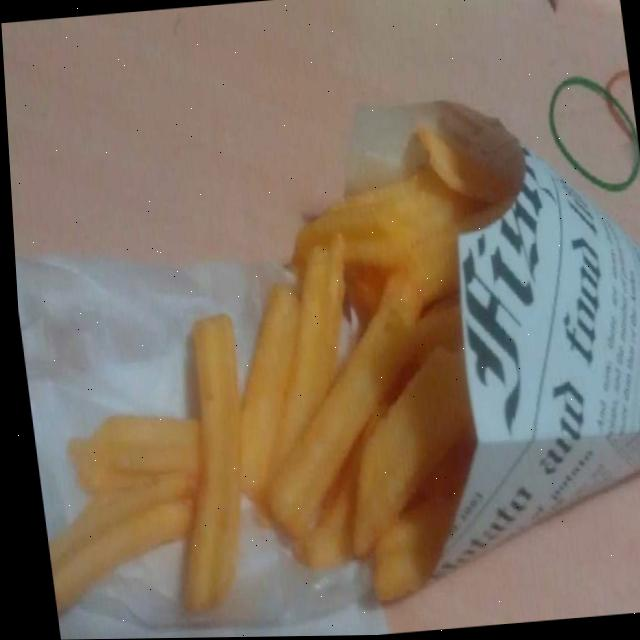炸货点心: (7, 147, 471, 640)
